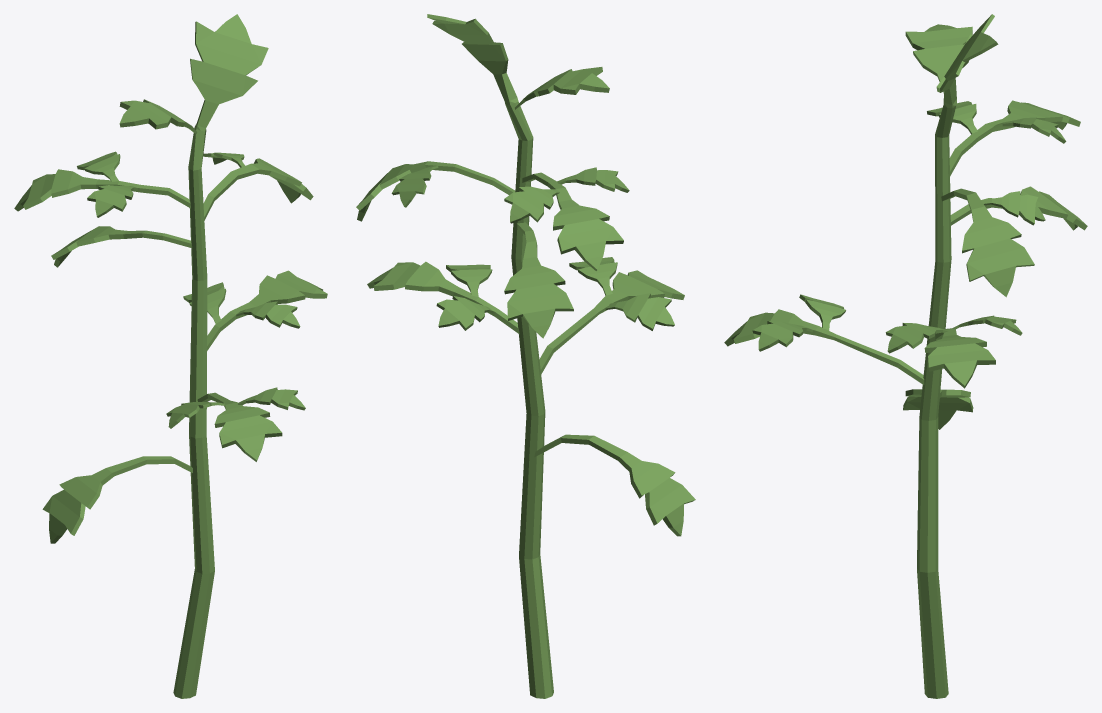
The model's file is Tomato_Harvested.gltf.
The picture shows the model from 3 angles, left to right: view 1: azimuth 30°, elevation 25°; view 2: azimuth 150°, elevation 25°; view 3: azimuth 270°, elevation 25°; orthographic projection. The views are drawn at different scales.
Visible parts, largest first — view 1: Tomato_Harvested; view 2: Tomato_Harvested; view 3: Tomato_Harvested.
Part boxes in pixels (bbox=[...]): Tomato_Harvested: bbox=[14, 14, 327, 698]; Tomato_Harvested: bbox=[356, 14, 695, 698]; Tomato_Harvested: bbox=[724, 14, 1087, 698].
Bounding box in the file's own units: 0.7932 × 1.72 × 0.81.
